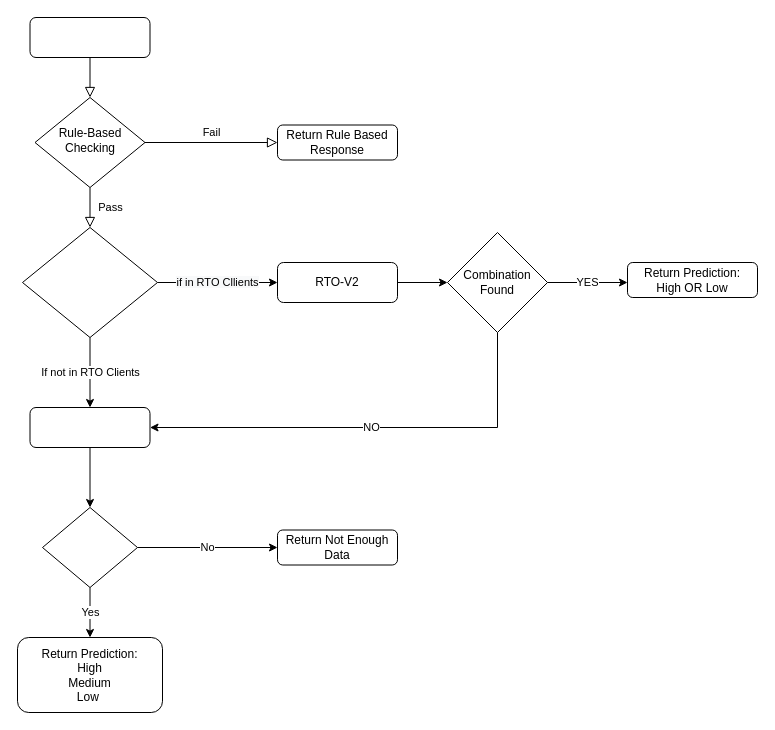
Some shapes in this 775 by 730 pixel diagram are drawn without their labels. The shapes that lost their labels are listed below. From the top down, each one's centre as x and y in pixels, then its label:
point 89,37: API CALL
point 90,282: Check Company ID
point 89,427: RTO-V1
point 90,547: Has >=2 ships
